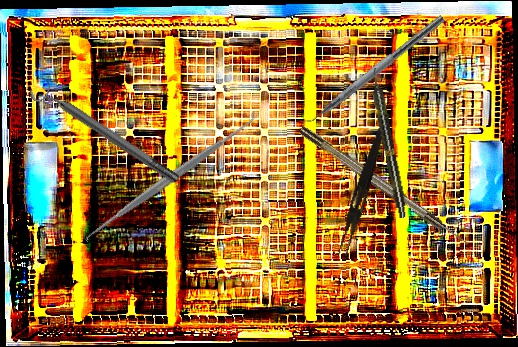Chopper: (293, 5, 446, 134)
Dressing Forceps: (337, 126, 386, 258)
Fixation Ring: (25, 73, 186, 193)
Handpiece: (367, 67, 410, 219)
Hook Surgical: (298, 123, 471, 250)
Spatula Surgical: (77, 106, 265, 248)
